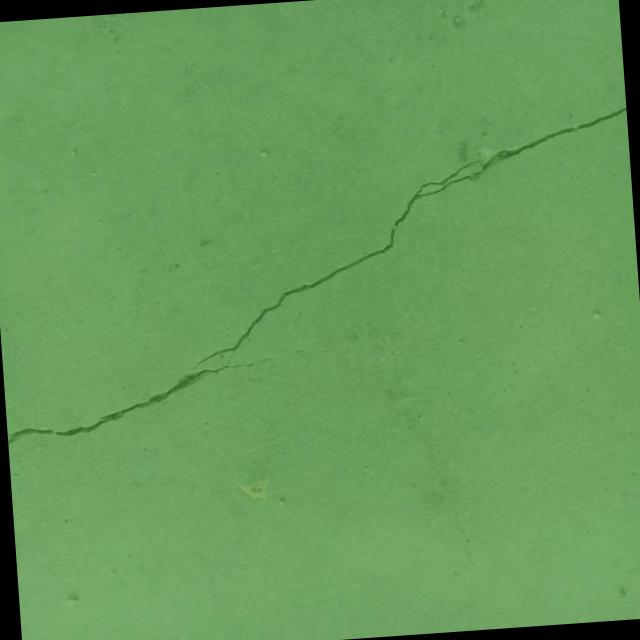crack: (0, 106, 640, 445)
